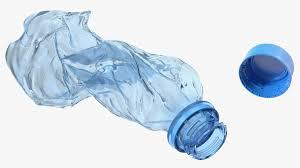plastic: (2, 14, 225, 157)
